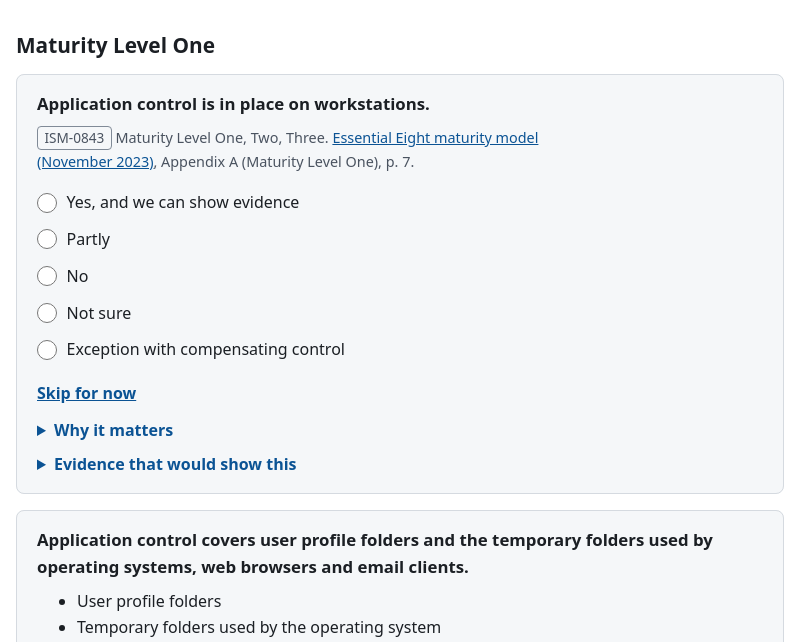
results page (Phase 5) › lists a "Not sure" answer as evidence to find
(page scrolled)
Click the radio button labelled "Not sure" at (47, 313), box [37,303,57,323]
(page scrolled)
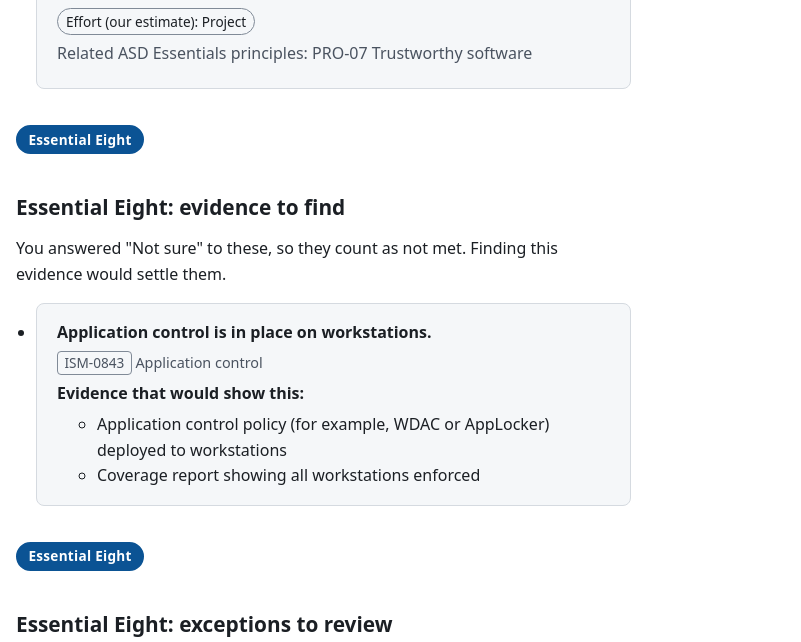
Result: the element "Essential Eight: evidence to find" shows "ISM-0843" at [64,353,124,372]
